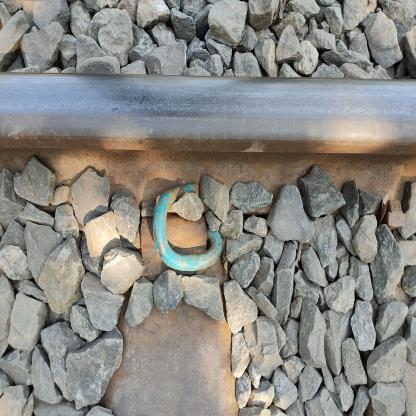Non Defective: (173, 124, 296, 284)
